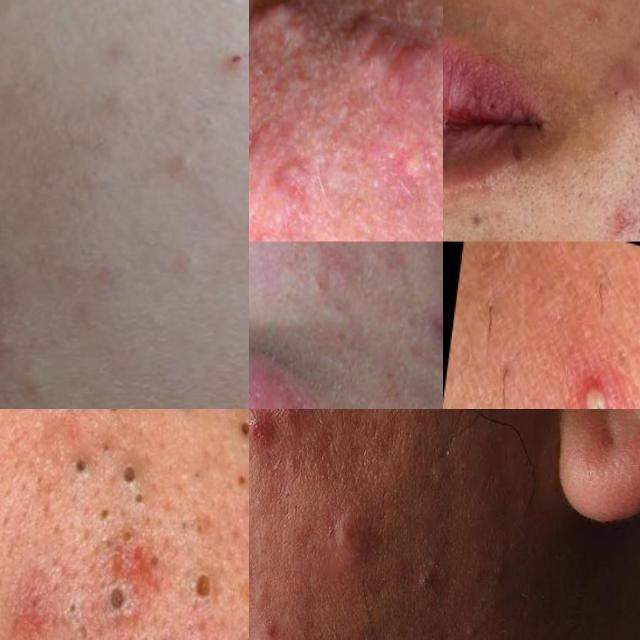acne_scars: (599, 190, 640, 241), (582, 0, 605, 36)
comedone: (57, 409, 152, 523), (284, 242, 361, 324), (77, 564, 139, 630), (162, 238, 235, 286), (0, 315, 49, 365), (404, 550, 449, 602), (178, 548, 220, 602), (94, 409, 183, 429), (222, 409, 249, 462), (73, 0, 149, 15), (225, 597, 249, 640), (455, 611, 485, 640)
cystic: (330, 500, 375, 571), (362, 38, 398, 85), (342, 0, 371, 41), (249, 409, 269, 466), (282, 38, 287, 43)
folliculitis: (562, 350, 630, 409)
keloid: (249, 0, 309, 51)
papule: (253, 409, 344, 440), (601, 37, 640, 104)
